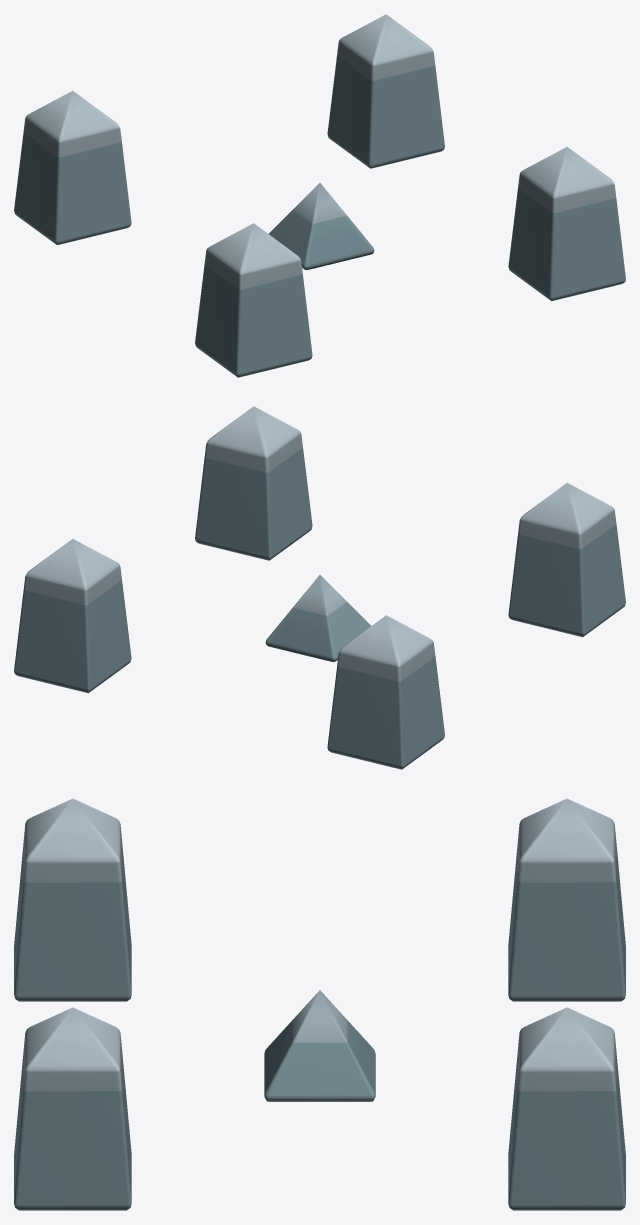
File: Props.fbx
The picture shows the model from 3 angles, top to bottom: view 1: azimuth 30°, elevation 25°; view 2: azimuth 150°, elevation 25°; view 3: azimuth 270°, elevation 25°; orthographic projection. The views are drawn at different scales.
Visible parts, largest first — view 1: 棱锥 (×4), 三角锥; view 2: 棱锥 (×4), 三角锥; view 3: 棱锥 (×4), 三角锥.
Boxes of the visible parts, bbox=[...] form: 棱锥 (×4): bbox=[14, 14, 625, 377]; 三角锥: bbox=[269, 183, 374, 269]; 棱锥 (×4): bbox=[14, 406, 625, 769]; 三角锥: bbox=[265, 575, 370, 661]; 棱锥 (×4): bbox=[14, 798, 625, 1210]; 三角锥: bbox=[264, 990, 375, 1101].
Size of the model in its own units: 19.89 by 6.42 by 19.81.
Materials: 2 (2 with a texture image).
